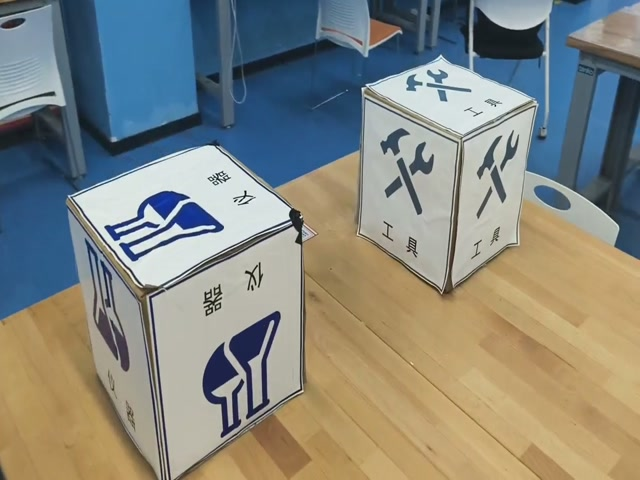Cube_ins: (67, 145, 301, 304)
Cube_tool: (363, 56, 536, 148)
